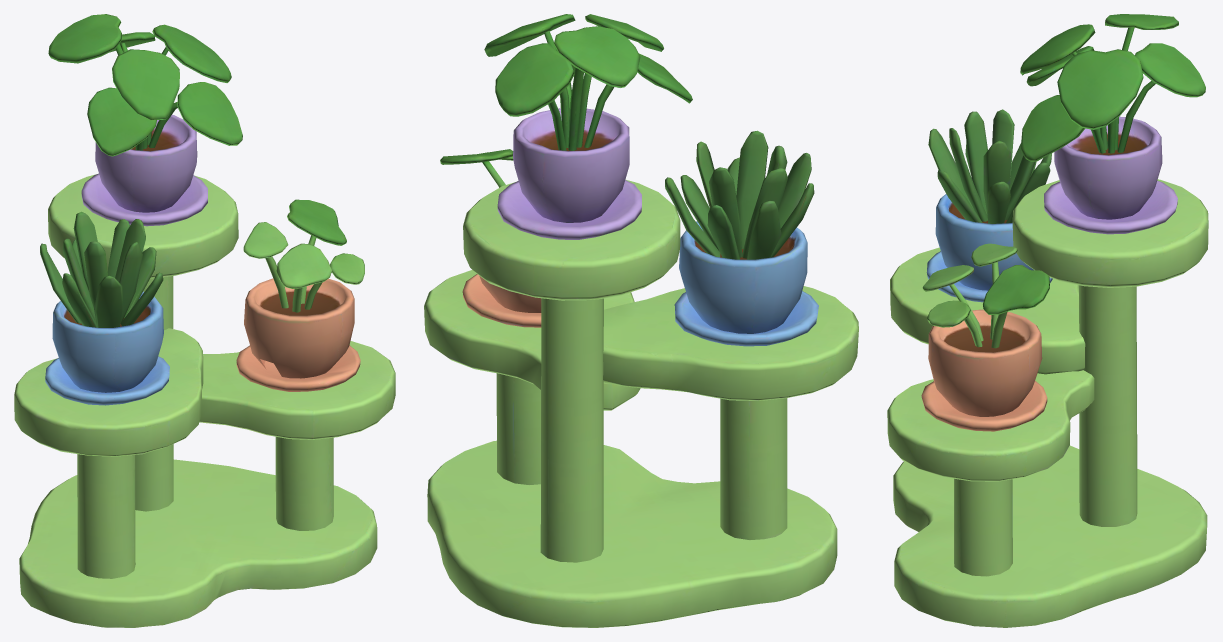
Rendered from plant-stand.glb.
3 renders of one model, left to right at view 1: azimuth 30°, elevation 25°; view 2: azimuth 150°, elevation 25°; view 3: azimuth 270°, elevation 25°, orthographic. The views are drawn at different scales.
Visible parts, largest first — view 1: geometry_0; view 2: geometry_0; view 3: geometry_0.
Boxes of the visible parts, box(x1,y1,x2,y2) form: geometry_0: box(14, 14, 395, 627); geometry_0: box(424, 14, 858, 627); geometry_0: box(887, 14, 1208, 627).
Bounding box in the file's own units: 0.7489 × 1 × 0.566.
Materials: 1 (1 with a texture image).
